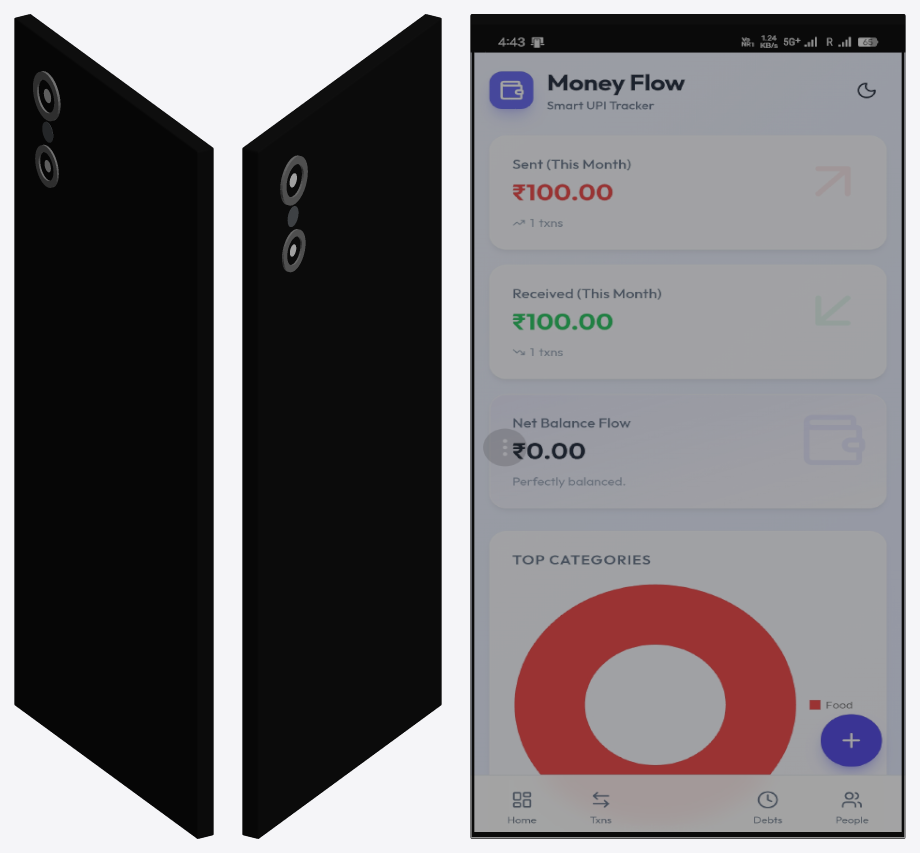
The picture shows the model from 3 angles, left to right: view 1: azimuth 30°, elevation 25°; view 2: azimuth 150°, elevation 25°; view 3: azimuth 270°, elevation 25°; orthographic projection. The views are drawn at different scales.
Visible parts, largest first — view 1: Plane; view 2: Plane; view 3: Plane.
Boxes of the visible parts, box(x1,y1,x2,y2) form: Plane: box(14, 14, 213, 838); Plane: box(242, 14, 441, 838); Plane: box(470, 14, 905, 838).
Bounding box in the file's own units: 0.038 × 1.3 × 0.6265.
Materials: 6 (1 with a texture image).
